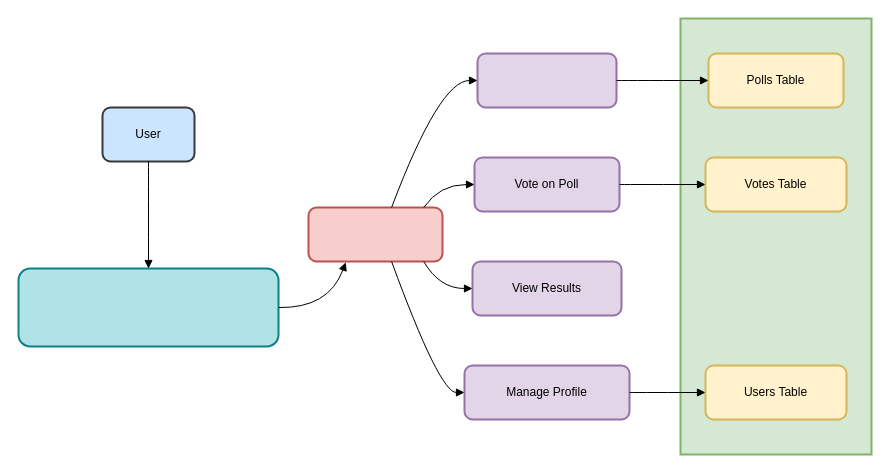
This 889x472 diagram has some shape labels left out. The shapes that lost their labels are listed below. From the top down, each one's box as (x1, y1, x2, y2) in pixels, then its label:
(476, 52, 617, 108): Create Poll
(307, 206, 443, 262): Dashboard
(679, 17, 872, 455): Supabase Database
(17, 267, 279, 347): Login or Signup via Supabase Auth
